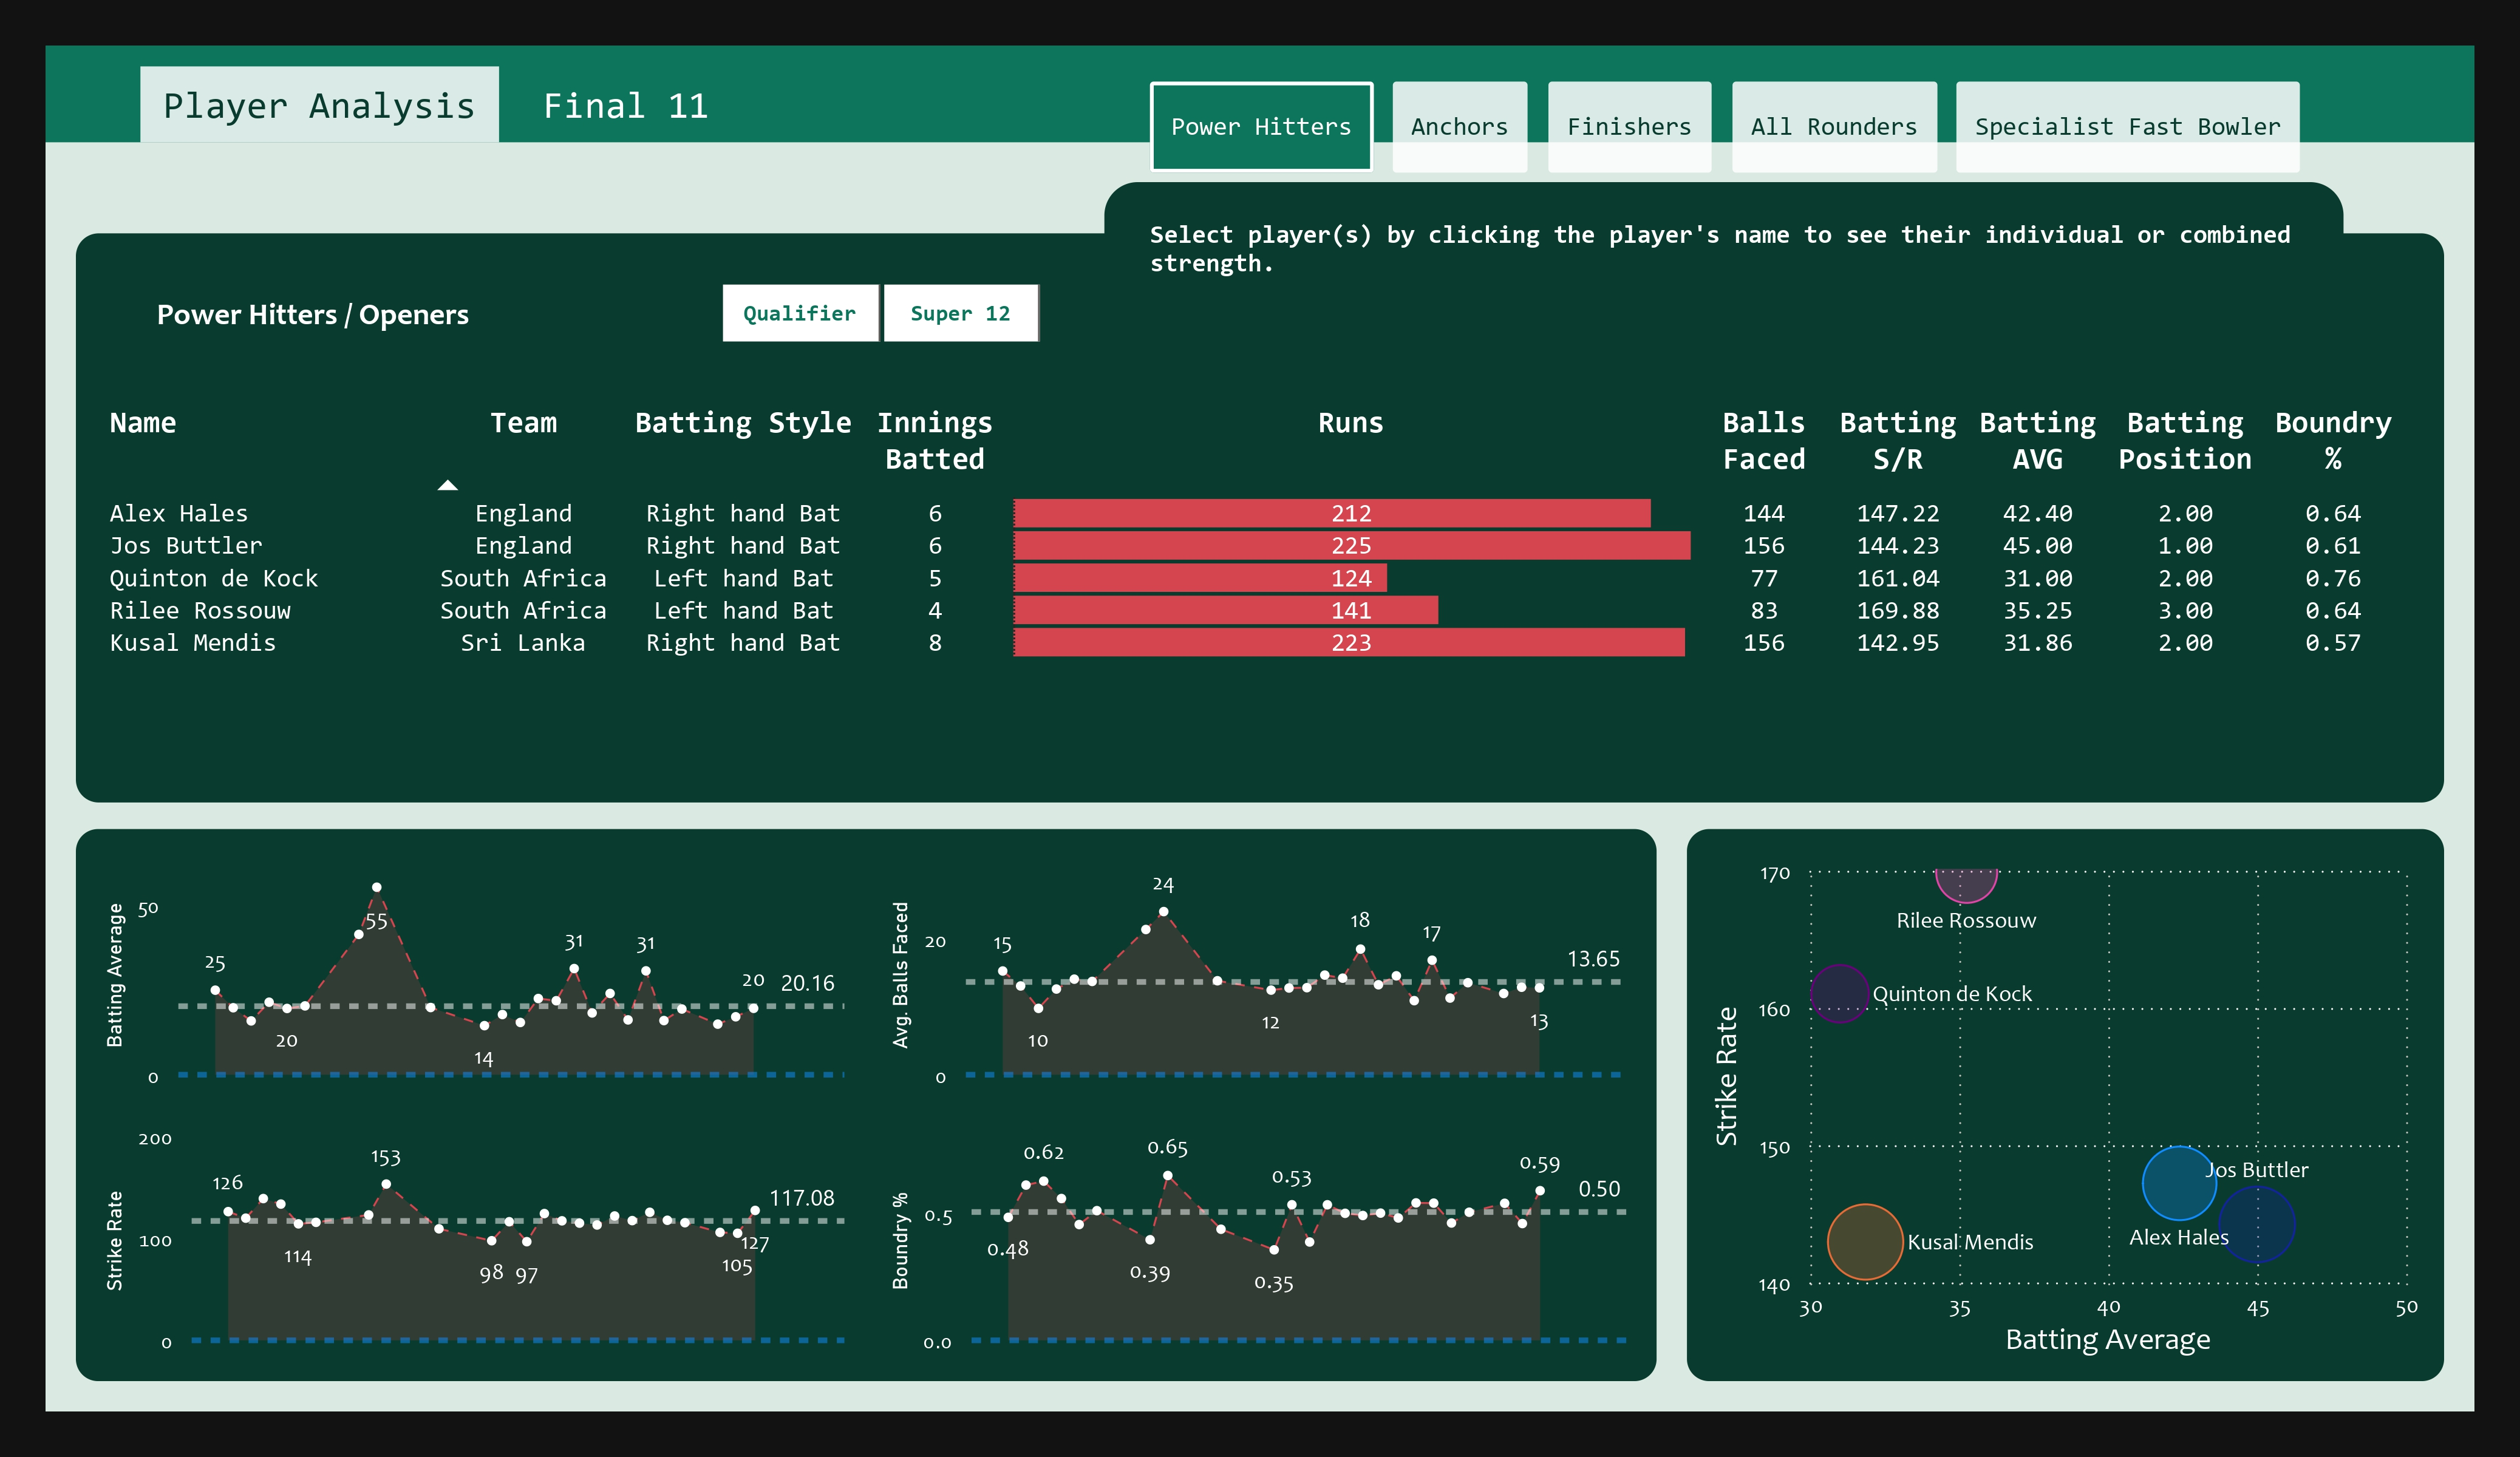

The dashboard page shown, as its layout file describes it:
{"tool":"powerbi","page":{"name":"Power Hitters / Openers","canvas":[1280,720],"ordinal":0},"visuals":[{"type":"textbox","box":[0,51.2,1280,668.8],"z":0},{"type":"shape","box":[16.2,98.8,1247.5,300],"z":3000},{"type":"slicer","fields":{"Values":["dim_match_summary.Stage"]},"box":[331.2,118.8,216.2,43.8],"z":4000},{"type":"shape","box":[26.2,113.8,230,53.8],"z":5000},{"type":"tableEx","fields":{"Values":["dim_players.name","dim_players.team","dim_players.battingStyle","Key_Measures.Total Innings Batted","Key_Measures.Total Runs","Key_Measures.Total Balls Faced","Key_Measures.Strike Rate","Key_Measures.Batting Average","Key_Measures.Batting Position","Key_Measures.Boundry %"]},"box":[22.5,167.5,1227.5,198.8],"z":6000},{"type":"shape","box":[558.2,71.6,653,69.9],"z":7000},{"type":"card","fields":{"Values":["Key_Measures.Avg. Balls Faced"]},"box":[853,72.5,120,70],"z":8000},{"type":"card","fields":{"Values":["Key_Measures.Boundry %"]},"box":[1088.6,72.5,120,70],"z":9000},{"type":"card","fields":{"Values":["Key_Measures.Batting Average"]},"box":[735.2,72.5,120,70],"z":10000},{"type":"card","fields":{"Values":["Key_Measures.Strike Rate"]},"box":[970.8,72.5,120,70],"z":11000},{"type":"shape","box":[588.6,72.5,148.8,70],"z":12000},{"type":"shape","box":[865,412.5,398.8,291.2],"z":13000},{"type":"scatterChart","fields":{"Category":["dim_players.name"],"Size":["Key_Measures.Total Runs"],"X":["Key_Measures.Batting Average"],"Y":["Key_Measures.Strike Rate"],"Series":["dim_players.name"]},"box":[872.5,421.2,383.8,275],"z":14000},{"type":"shape","box":[16.2,412.5,832.5,291.2],"z":15000},{"type":"areaChart","fields":{"Y":["Key_Measures.Batting Average"],"Category":["dim_match_summary.matchDate.Variation.Date Hierarchy.Day"]},"box":[26.2,421.2,400,135],"z":16000},{"type":"areaChart","fields":{"Category":["dim_match_summary.matchDate.Variation.Date Hierarchy.Day"],"Y":["Key_Measures.Avg. Balls Faced"]},"box":[440,421.2,400,135],"z":17000},{"type":"areaChart","fields":{"Y":["Key_Measures.Boundry %"],"Category":["dim_match_summary.matchDate.Variation.Date Hierarchy.Day"]},"box":[440,561.2,400,135],"z":18000},{"type":"areaChart","fields":{"Y":["Key_Measures.Strike Rate"],"Category":["dim_match_summary.matchDate.Variation.Date Hierarchy.Day"]},"box":[26.2,561.2,400,135],"z":19000},{"type":"actionButton","box":[581.9,18.7,118,48.5],"z":27000},{"type":"actionButton","box":[710.5,19.3,71,47.4],"z":28000},{"type":"actionButton","box":[792,19.3,86,47.4],"z":29000},{"type":"actionButton","box":[888.5,19.3,108,47.4],"z":30000},{"type":"actionButton","box":[1007.1,19.3,181,47.4],"z":31000},{"type":"shape","box":[581.9,71.6,605.6,69.9],"z":32000},{"type":"actionButton","box":[256,11,100,40],"z":32001},{"type":"actionButton","box":[50,11,189,40],"z":32002}]}

Visuals, with their boxes on the page's 1280x720 design canvas (x1, y1, x2, y2). These are canvas units, not pixel positions in the 2520x1457 screenshot, which may show the page scaled, cropped or inside an application window:
textbox: (x1=0, y1=51, x2=1280, y2=720)
shape: (x1=16, y1=99, x2=1264, y2=399)
slicer - dim_match_summary.Stage: (x1=331, y1=119, x2=547, y2=163)
shape: (x1=26, y1=114, x2=256, y2=168)
tableEx - dim_players.name x dim_players.team: (x1=22, y1=168, x2=1250, y2=366)
shape: (x1=558, y1=72, x2=1211, y2=142)
card - Key_Measures.Avg. Balls Faced: (x1=853, y1=72, x2=973, y2=142)
card - Key_Measures.Boundry %: (x1=1089, y1=72, x2=1209, y2=142)
card - Key_Measures.Batting Average: (x1=735, y1=72, x2=855, y2=142)
card - Key_Measures.Strike Rate: (x1=971, y1=72, x2=1091, y2=142)
shape: (x1=589, y1=72, x2=737, y2=142)
shape: (x1=865, y1=412, x2=1264, y2=704)
scatterChart - dim_players.name x Key_Measures.Total Runs: (x1=872, y1=421, x2=1256, y2=696)
shape: (x1=16, y1=412, x2=849, y2=704)
areaChart - Key_Measures.Batting Average x dim_match_summary.matchDate.Variation.Date Hierarchy.Day: (x1=26, y1=421, x2=426, y2=556)
areaChart - dim_match_summary.matchDate.Variation.Date Hierarchy.Day x Key_Measures.Avg. Balls Faced: (x1=440, y1=421, x2=840, y2=556)
areaChart - Key_Measures.Boundry % x dim_match_summary.matchDate.Variation.Date Hierarchy.Day: (x1=440, y1=561, x2=840, y2=696)
areaChart - Key_Measures.Strike Rate x dim_match_summary.matchDate.Variation.Date Hierarchy.Day: (x1=26, y1=561, x2=426, y2=696)
actionButton: (x1=582, y1=19, x2=700, y2=67)
actionButton: (x1=710, y1=19, x2=782, y2=67)
actionButton: (x1=792, y1=19, x2=878, y2=67)
actionButton: (x1=888, y1=19, x2=996, y2=67)
actionButton: (x1=1007, y1=19, x2=1188, y2=67)
shape: (x1=582, y1=72, x2=1188, y2=142)
actionButton: (x1=256, y1=11, x2=356, y2=51)
actionButton: (x1=50, y1=11, x2=239, y2=51)
